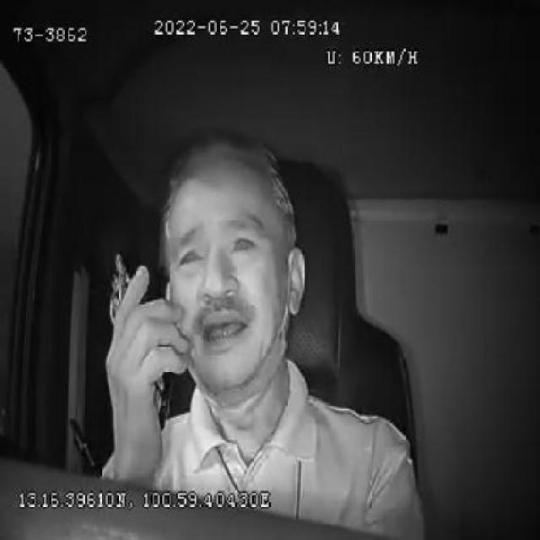phone: (106, 245, 176, 438)
